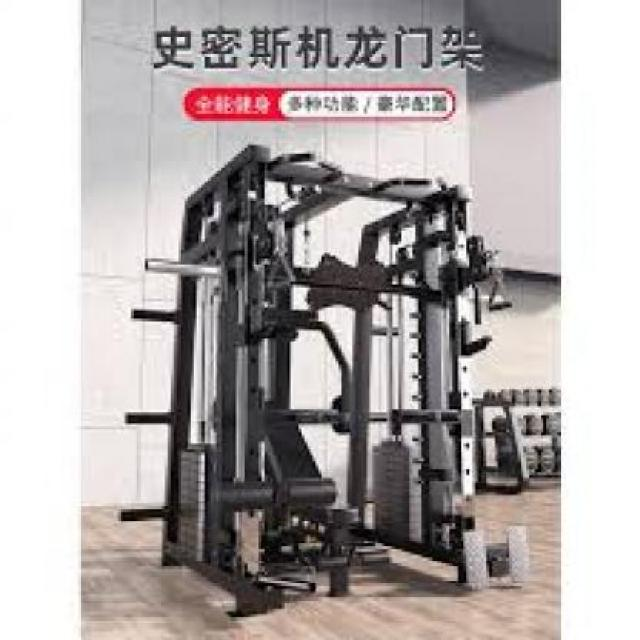smith machine: (123, 143, 479, 617)
